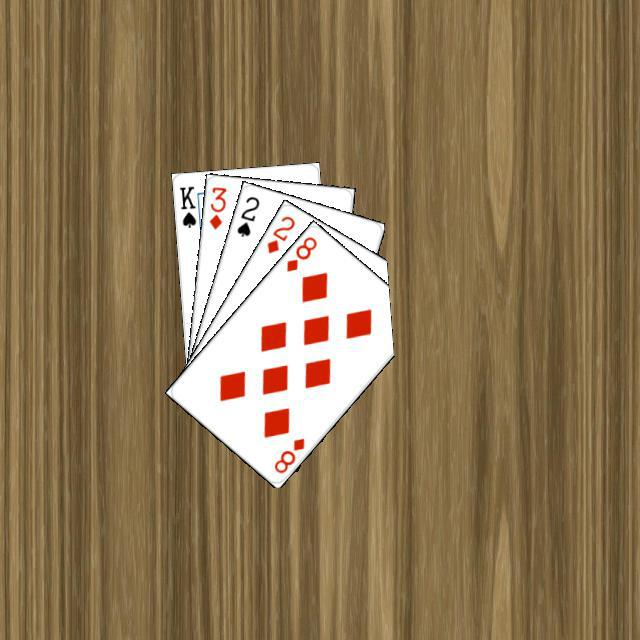2d: (262, 211, 297, 255)
2s: (232, 191, 261, 238)
3d: (204, 182, 228, 231)
8d: (281, 231, 319, 274), (269, 433, 306, 475)
Ks: (175, 181, 198, 229)
